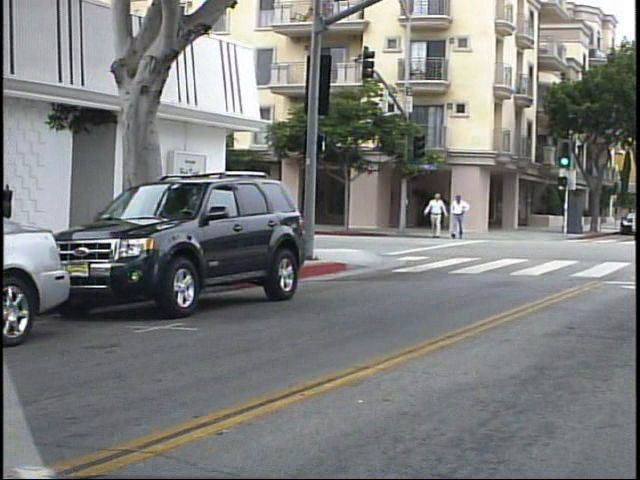person: (426, 188, 452, 244), (450, 189, 474, 243)
